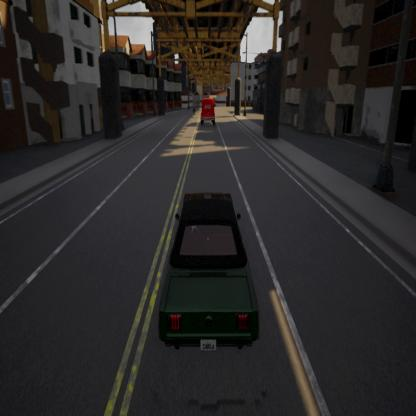Cars: (161, 194, 258, 354), (201, 95, 217, 125)
